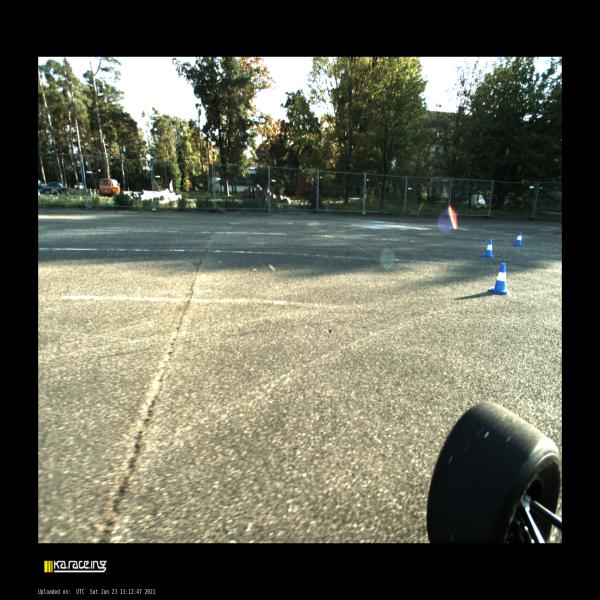blue_cone: (488, 262, 511, 295), (482, 238, 494, 259), (513, 231, 524, 247)
